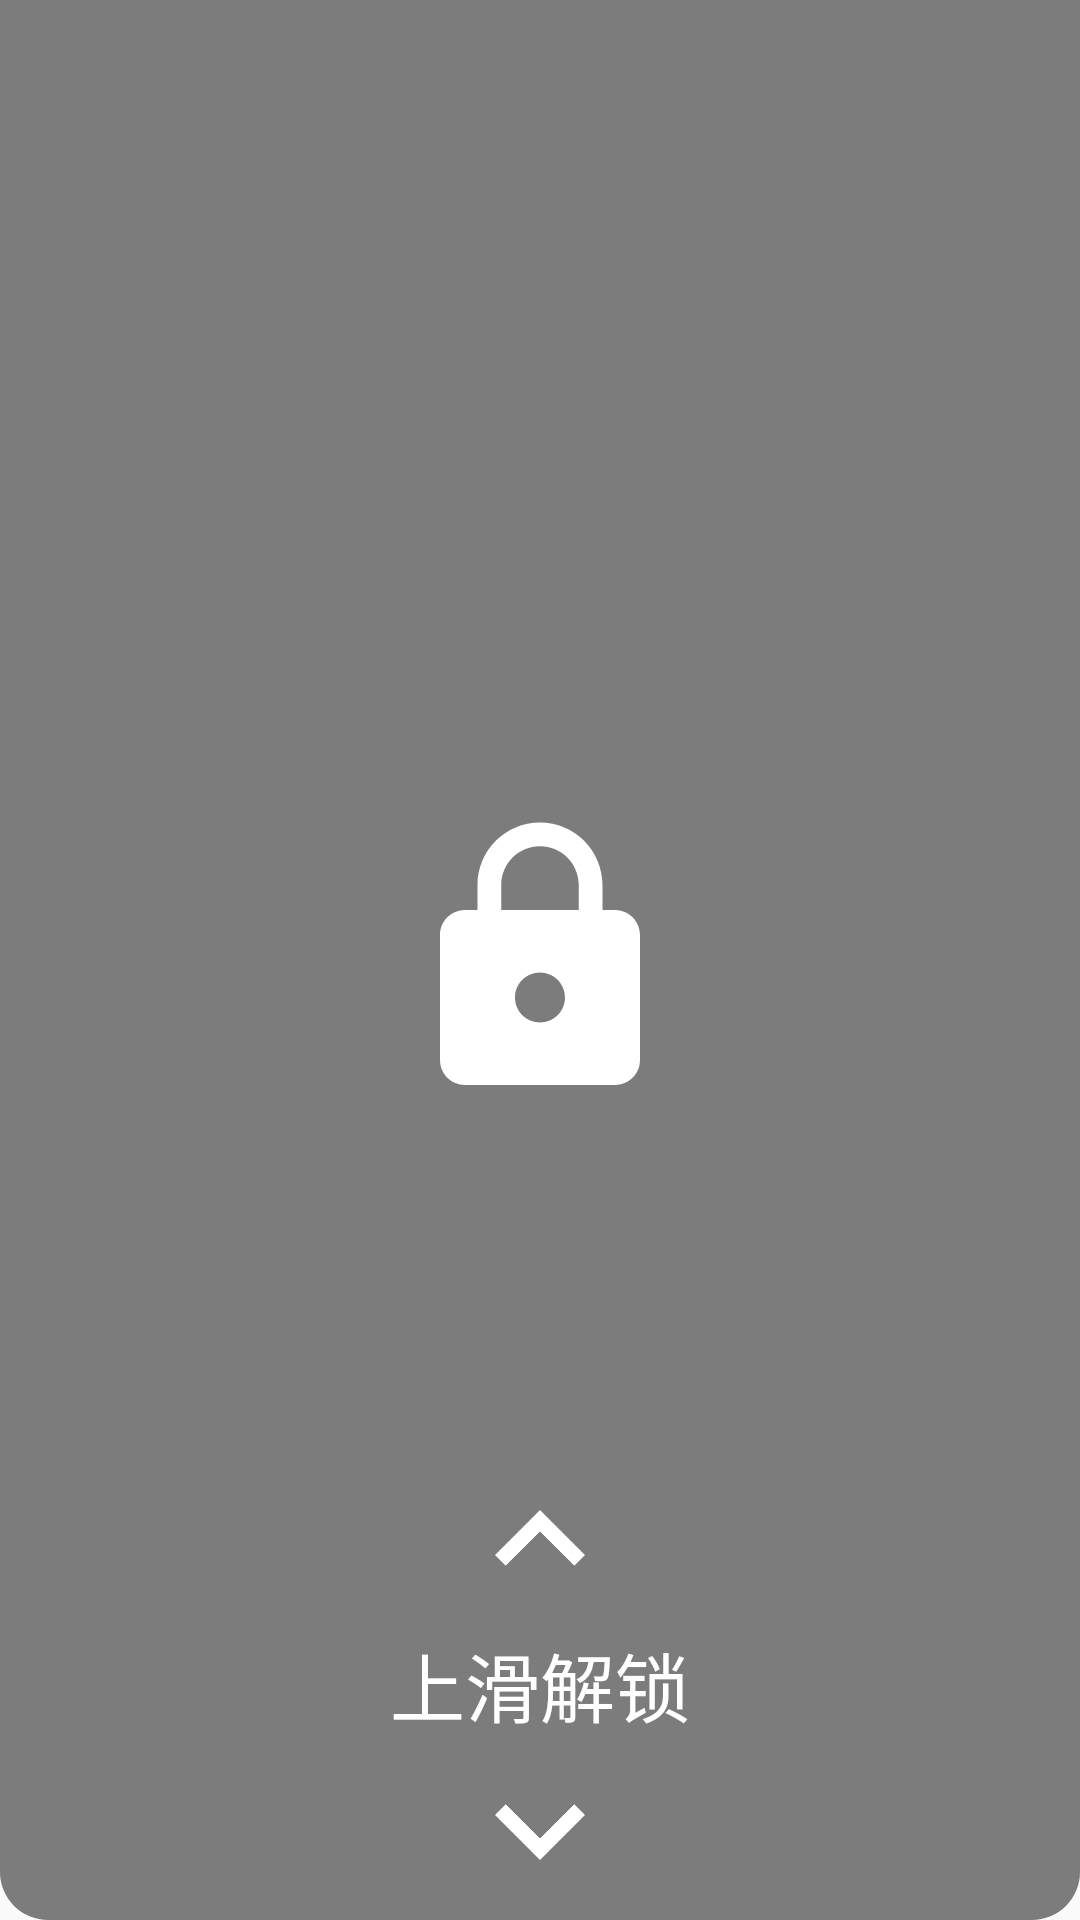

Named icons in this screenshot (1080 x 1920) and their bounding boxes, (x1, y1, x2, y2):
lock: (440, 822, 640, 1085)
